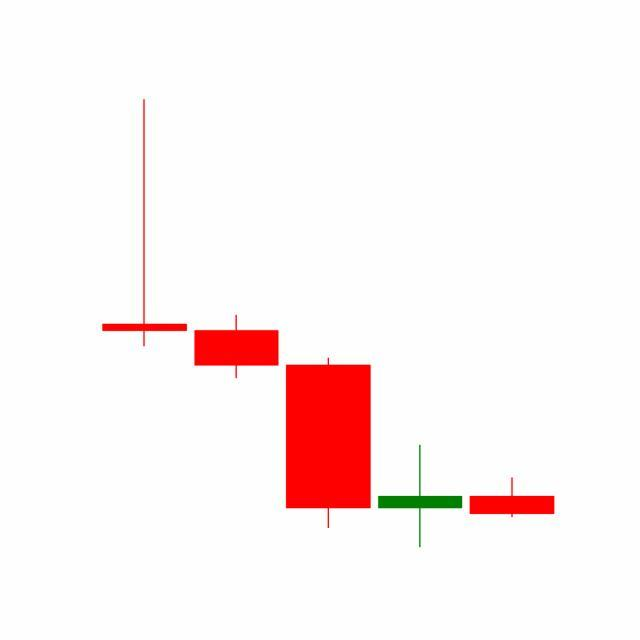Spinning Top: (374, 444, 468, 550)
